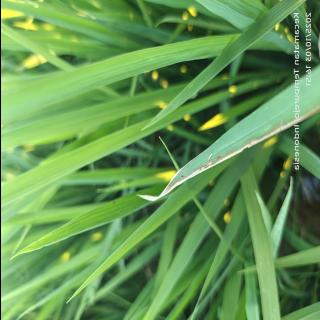Hawar-Daun: (231, 153, 245, 155)
